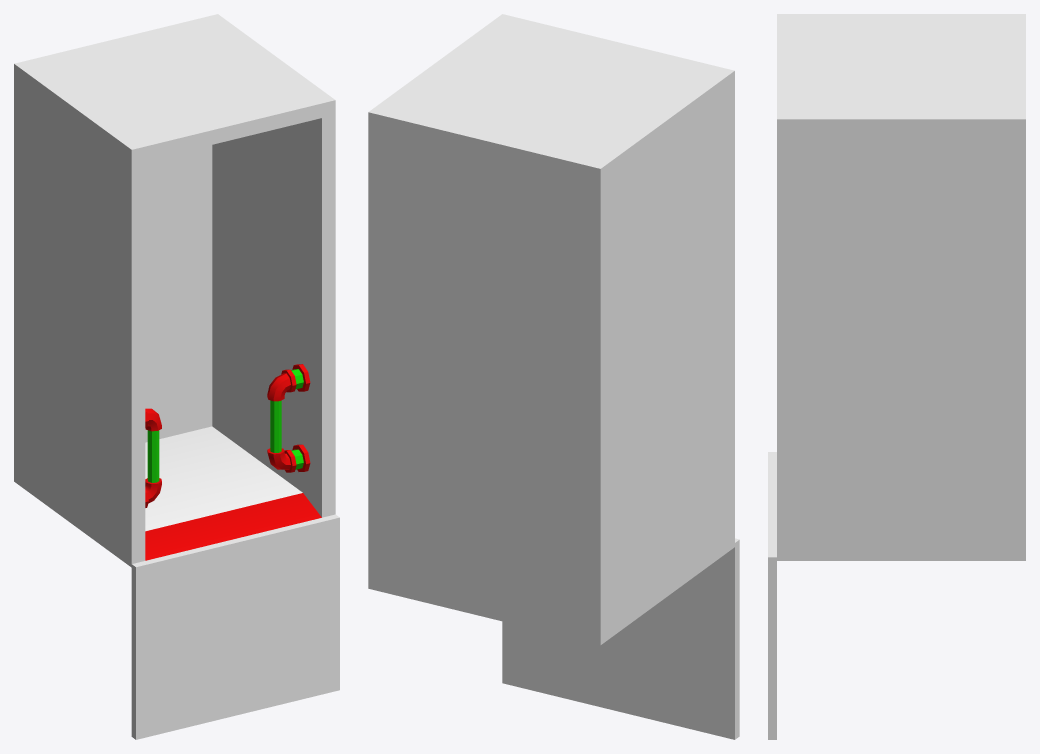
File: Paternoster.gltf
The picture shows the model from 3 angles, left to right: view 1: azimuth 30°, elevation 25°; view 2: azimuth 150°, elevation 25°; view 3: azimuth 270°, elevation 25°; orthographic projection. The views are drawn at different scales.
Visible parts, largest first — view 1: Plane; view 2: Plane; view 3: Plane.
Part boxes in pixels (x1,y1,x2,y2): Plane: (14,14,339,739); Plane: (368,14,739,739); Plane: (768,14,1025,739).
Bounding box in the file's own units: 6.39 × 17.58 × 6.62.
Materials: 1 (1 with a texture image).
